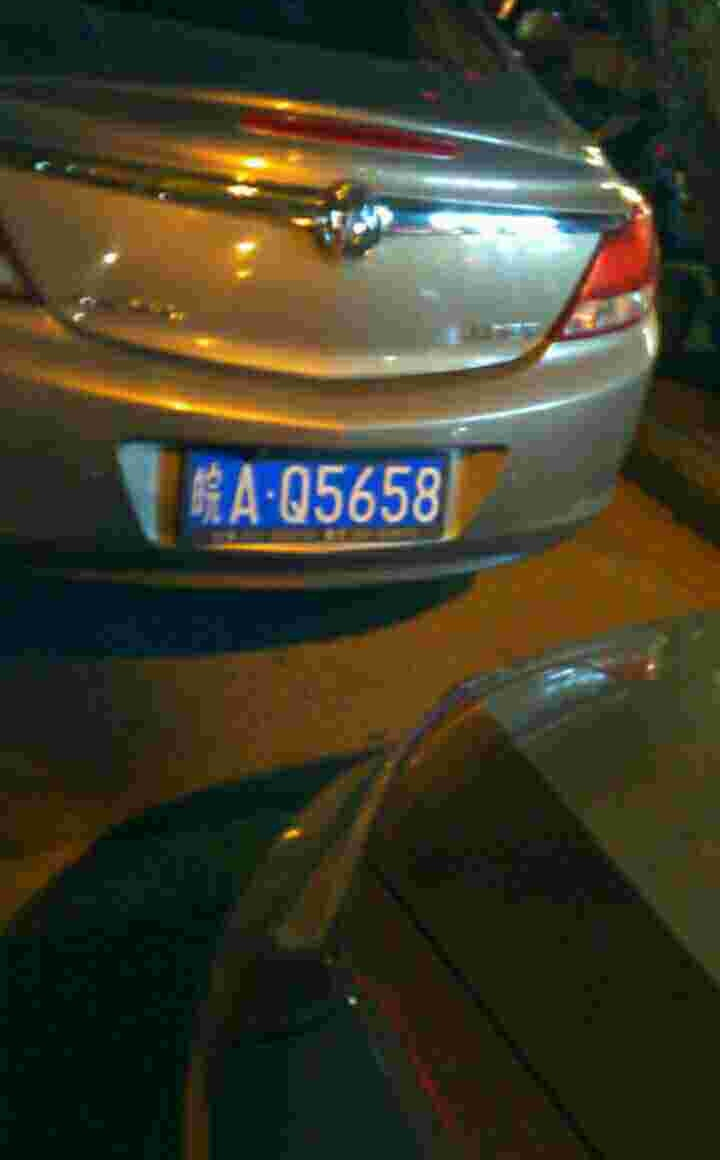license_plate: (193, 454, 452, 528)
